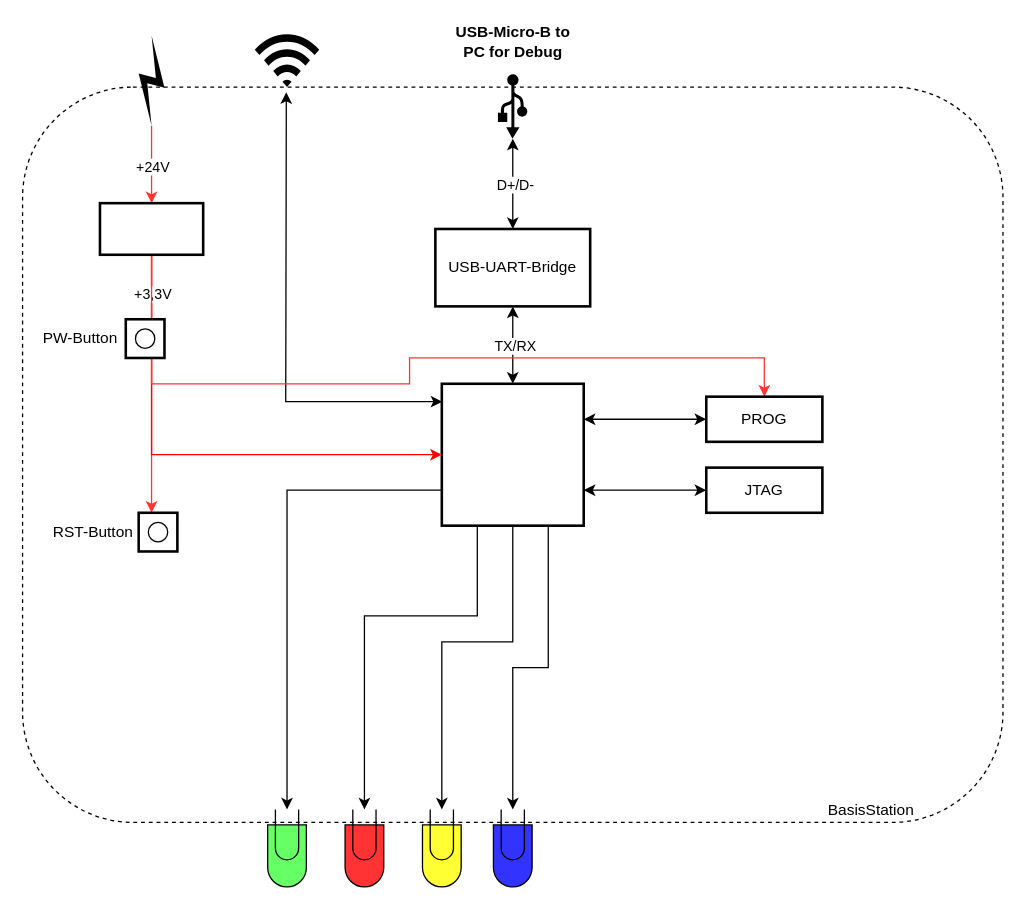
Image size: 1026x909. Some labels were removed from this diagram. Each missing label, with the centre of its shape:
"DC/DC Converter" belongs at [151,228].
"ESP32-S3-WROOM-1U" belongs at [512,454].
